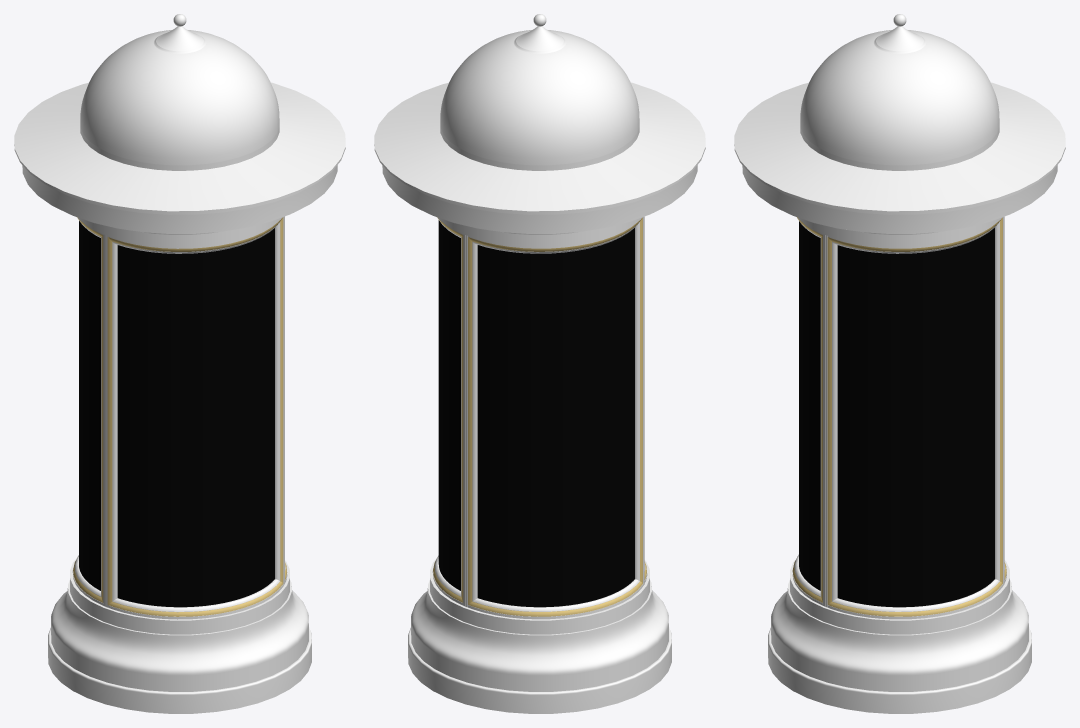
Rendered from multipillar.glb.
The picture shows the model from 3 angles, left to right: view 1: azimuth 30°, elevation 25°; view 2: azimuth 150°, elevation 25°; view 3: azimuth 270°, elevation 25°; orthographic projection.
Visible parts, largest first — view 1: Tumb, Tumb Glass, Glassholder 1-04, Glassholder 1-02, Glassholder down, Glassholder 1-03, Glassholder top; view 2: Tumb, Tumb Glass, Glassholder 1-06, Glassholder 1-03, Glassholder down, Glassholder 1-05, Glassholder top; view 3: Tumb, Tumb Glass, Glassholder 1-1, Glassholder 1-05, Glassholder down, Glassholder 1-02, Glassholder top.
Boxes of the visible parts, bbox=[...] form: Tumb: bbox=[14, 14, 345, 713]; Tumb Glass: bbox=[79, 221, 274, 607]; Glassholder 1-04: bbox=[105, 235, 117, 607]; Glassholder 1-02: bbox=[275, 217, 284, 585]; Glassholder down: bbox=[72, 555, 287, 619]; Glassholder 1-03: bbox=[101, 234, 105, 606]; Glassholder top: bbox=[77, 217, 282, 253]; Tumb: bbox=[374, 14, 705, 713]; Tumb Glass: bbox=[438, 220, 634, 607]; Glassholder 1-06: bbox=[465, 235, 477, 607]; Glassholder 1-03: bbox=[635, 217, 643, 585]; Glassholder down: bbox=[432, 555, 647, 619]; Glassholder 1-05: bbox=[461, 234, 465, 606]; Glassholder top: bbox=[437, 217, 641, 253]; Tumb: bbox=[734, 14, 1065, 713]; Tumb Glass: bbox=[799, 221, 994, 607]; Glassholder 1-1: bbox=[825, 235, 837, 607]; Glassholder 1-05: bbox=[995, 217, 1003, 585]; Glassholder down: bbox=[792, 554, 1006, 619]; Glassholder 1-02: bbox=[820, 234, 825, 606]; Glassholder top: bbox=[797, 217, 1001, 253].
Size of the model in its own units: 2.43 by 5.2 by 2.43.
